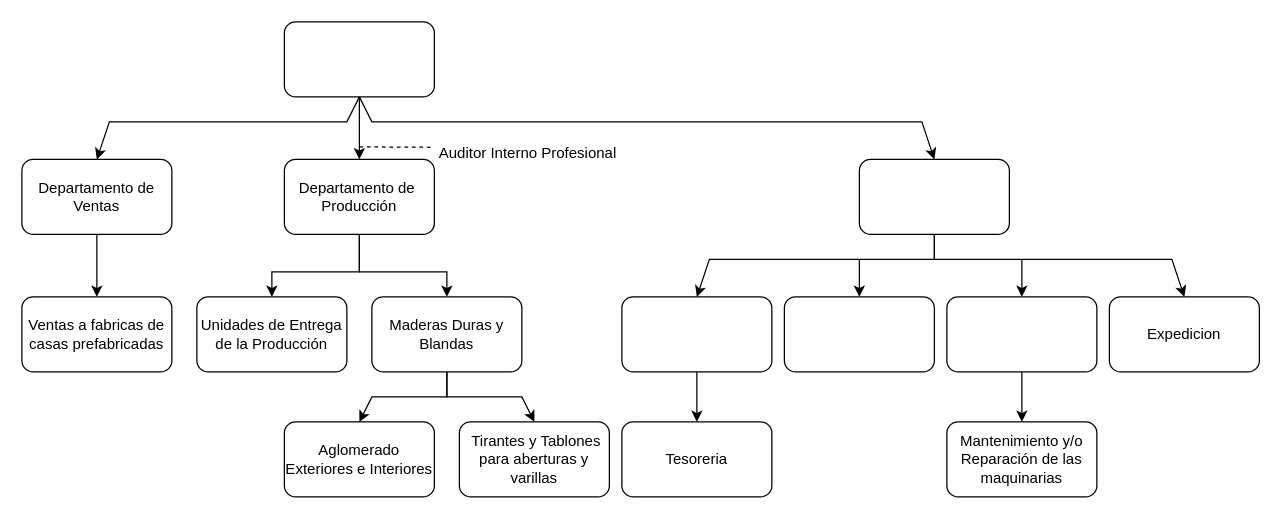
This 1281x519 diagram has some shape labels left out. Each missing label, with the box of its shape:
Contable: (621, 296, 772, 372)
Departamento de Administración: (858, 158, 1009, 234)
Gerente General: (283, 21, 434, 97)
Personal: (783, 296, 934, 372)
Servicios Generales: (946, 296, 1097, 372)
